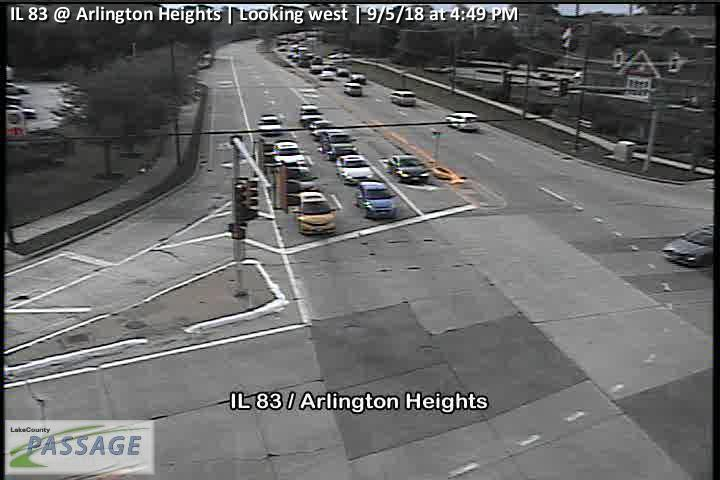SUV: (296, 190, 336, 235), (320, 132, 356, 160), (446, 112, 480, 130), (391, 91, 416, 106), (343, 82, 361, 96)
Sedan: (661, 226, 712, 271), (353, 181, 398, 219), (386, 154, 432, 186), (335, 153, 374, 185), (275, 139, 309, 170)
